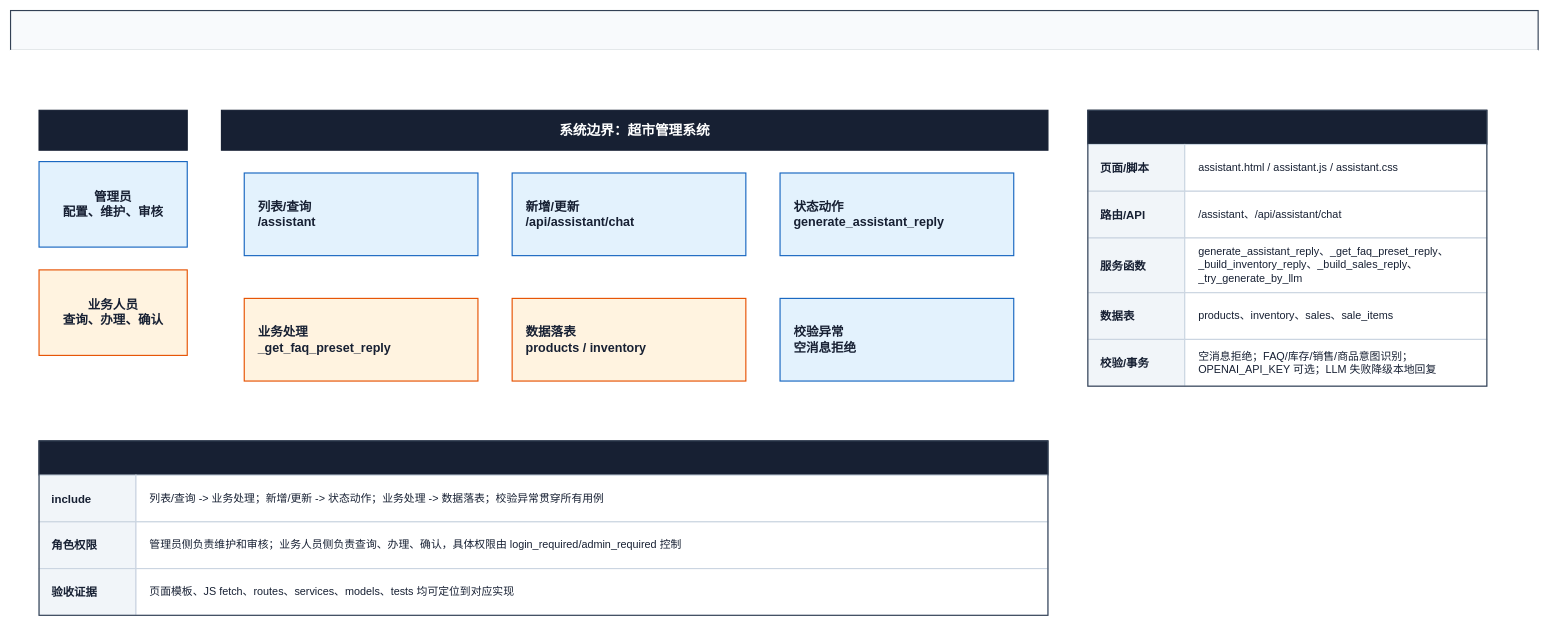
Some shapes in this 1548 by 625 pixel diagram are drawn without their labels. Each missing label, with the box of its shape:
实现明细: (1087, 109, 1487, 145)
智能助手用例图: (10, 10, 1538, 51)
模块级用例矩阵｜角色｜用例｜实现入口｜校验点: (10, 50, 1538, 74)
用例依赖: (38, 440, 1048, 475)
角色: (38, 109, 188, 150)
